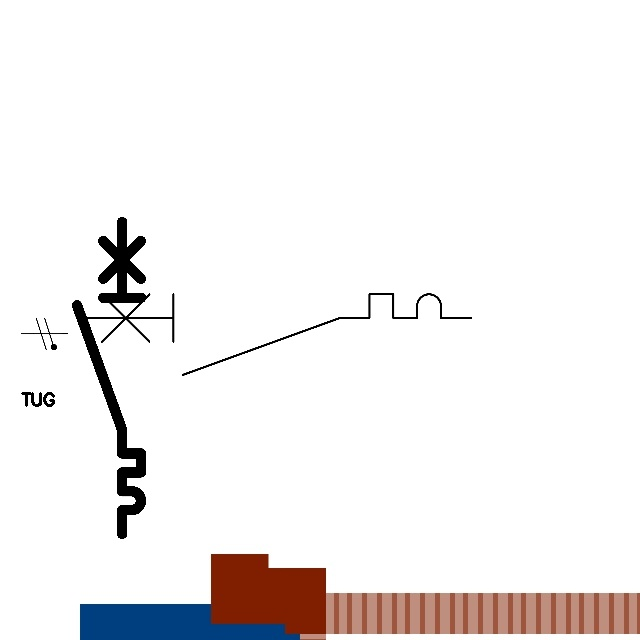interruptor_termomagnetico: (67, 284, 481, 385), (69, 214, 149, 542)
